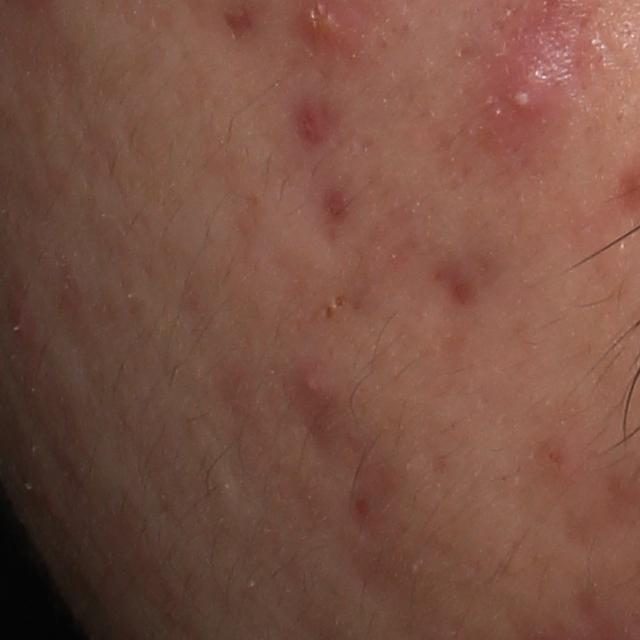atrophic_scar: (222, 8, 254, 47)
comedo: (332, 292, 346, 311)
papule: (2, 297, 41, 341), (292, 106, 328, 146)
pustule: (494, 37, 583, 150)
